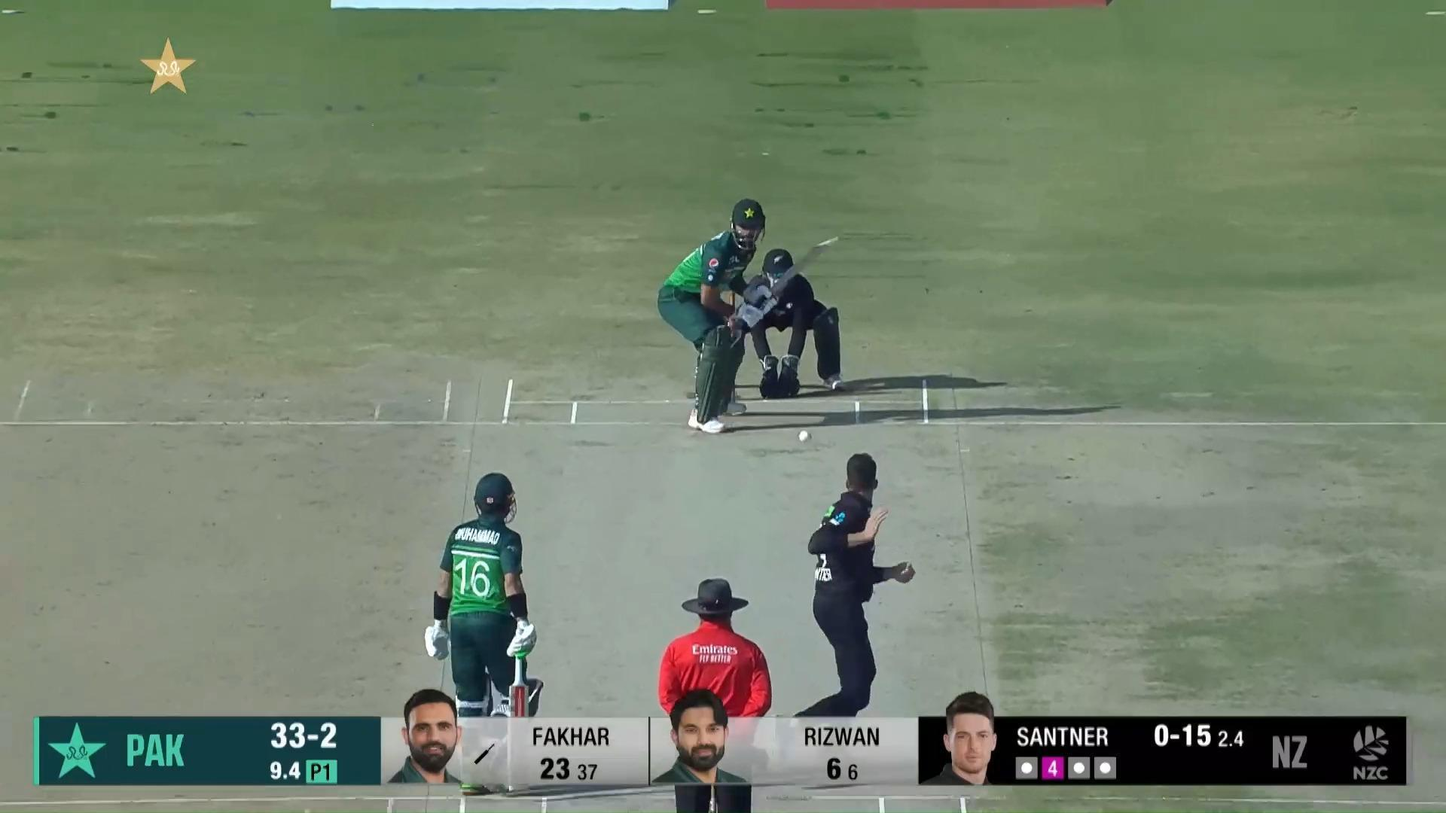BM 1: (655, 196, 843, 435)
BO: (793, 453, 914, 716)
